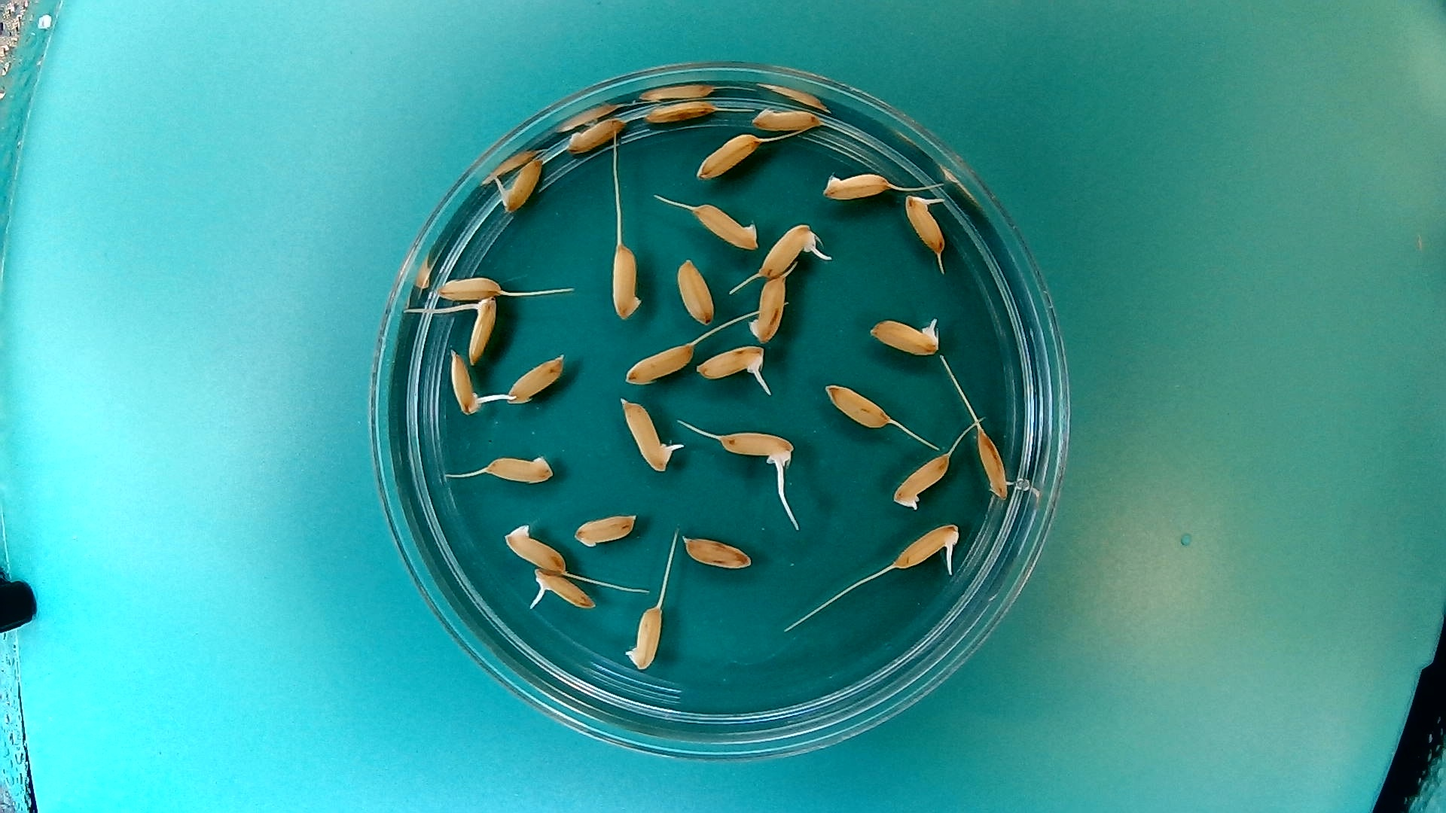no: (500, 519, 569, 574), (689, 202, 760, 252), (821, 380, 892, 430), (621, 338, 696, 385), (693, 132, 761, 181), (505, 354, 569, 406), (569, 508, 644, 552), (746, 270, 791, 343), (679, 532, 755, 574), (674, 254, 717, 327), (974, 425, 1014, 502), (623, 600, 666, 671), (608, 239, 644, 323), (563, 114, 627, 155), (484, 450, 556, 485), (748, 101, 824, 134), (819, 169, 895, 202), (643, 96, 717, 123), (434, 276, 505, 303)
yes: (618, 393, 682, 475), (754, 219, 829, 282), (889, 519, 964, 573), (890, 449, 953, 511), (715, 426, 798, 470), (693, 341, 770, 385), (526, 566, 597, 612), (493, 156, 547, 215), (868, 313, 943, 355), (902, 191, 947, 255), (461, 294, 499, 367), (447, 350, 489, 416)
